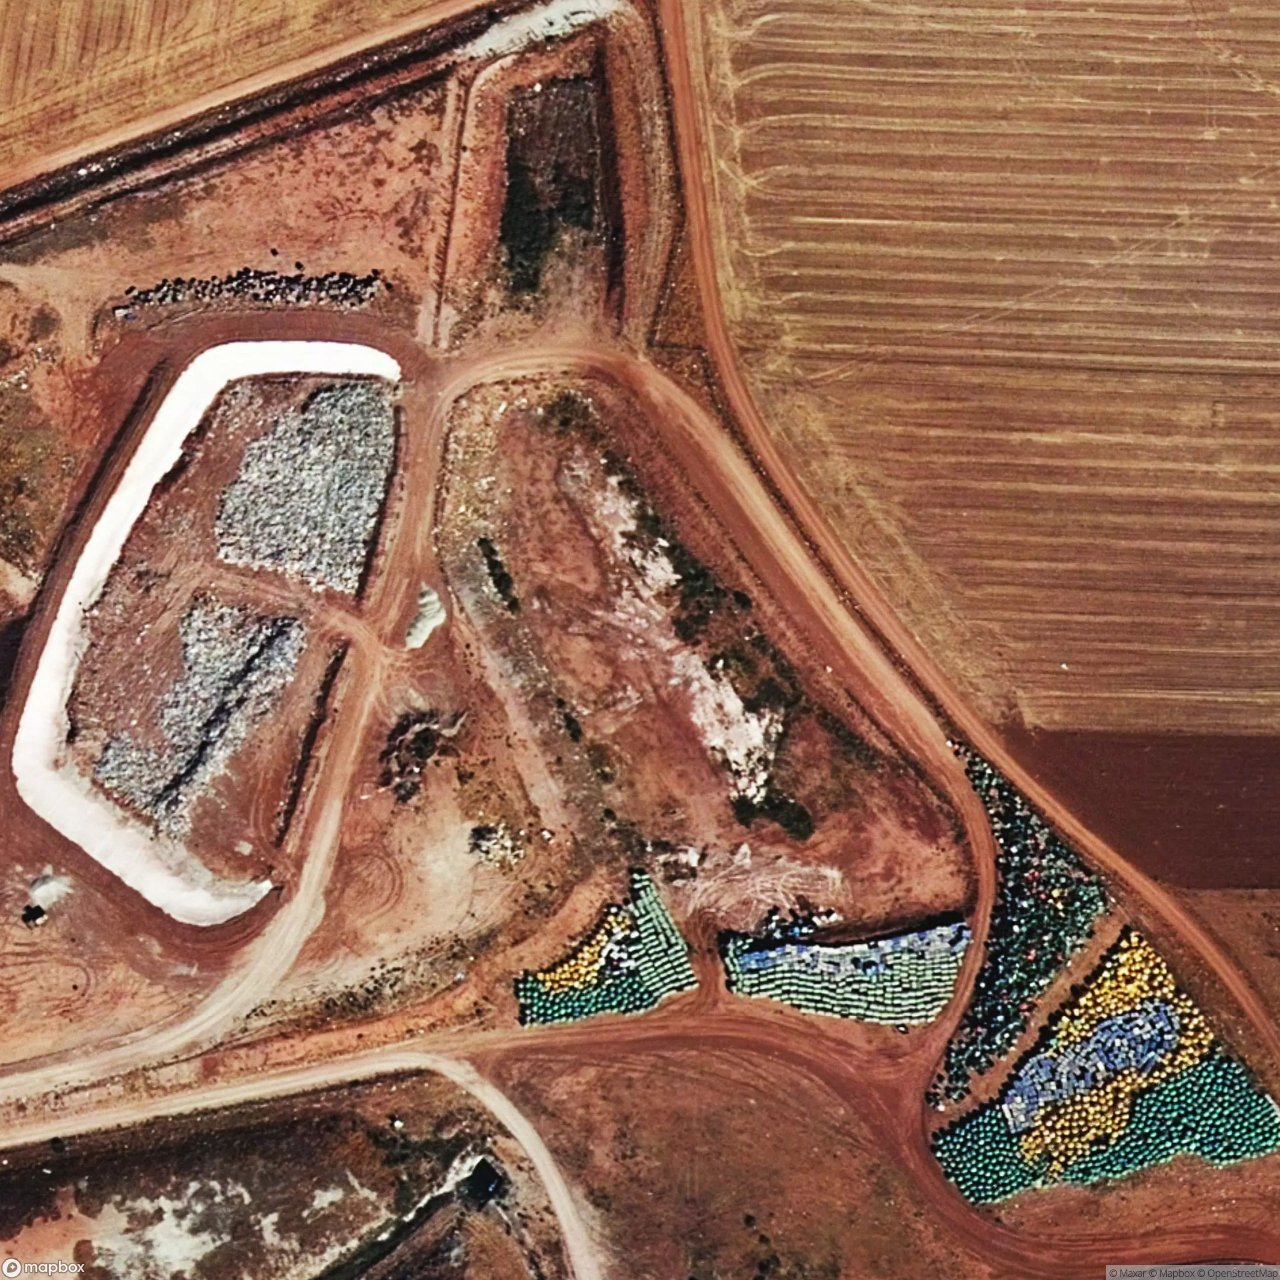dump_site: (919, 926, 1276, 1214), (46, 587, 319, 835), (205, 368, 411, 602)
